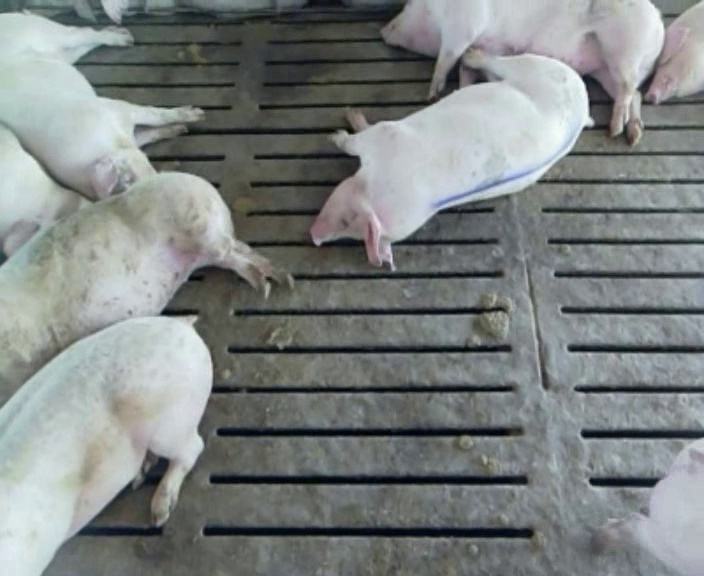pig: (0, 173, 291, 405), (311, 50, 590, 268), (0, 318, 211, 574), (593, 438, 703, 574), (644, 2, 703, 103)
